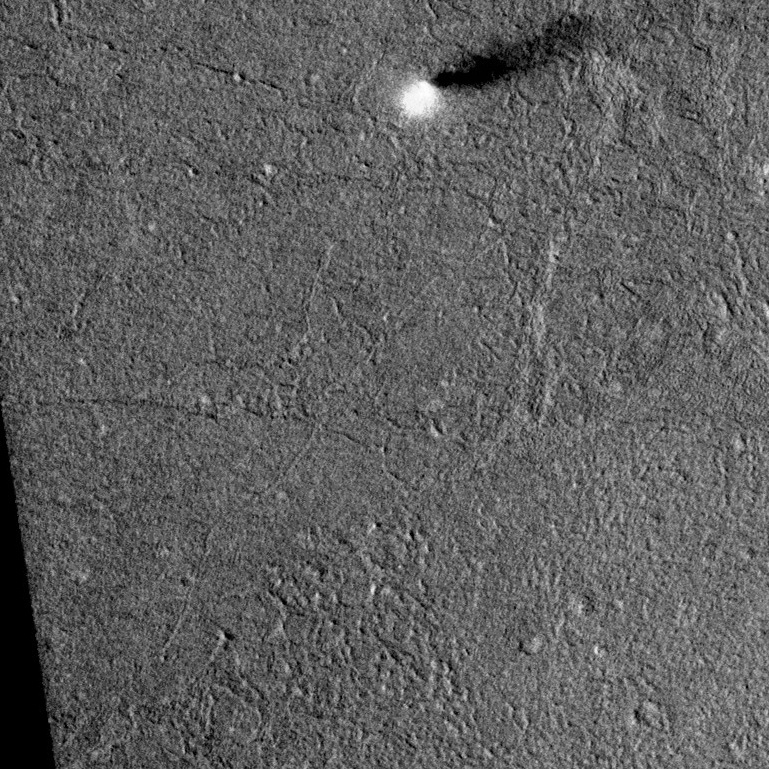dust_devil: (394, 12, 594, 124)
